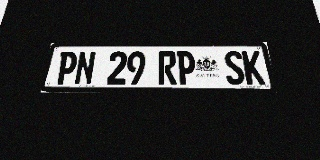2: (107, 51, 128, 85)
9: (126, 51, 146, 85)
K: (241, 51, 266, 85)
N: (74, 51, 96, 85)
P: (55, 51, 78, 85), (177, 51, 196, 85)
R: (158, 51, 177, 85)
S: (223, 51, 246, 85)
